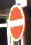No entry: (5, 5, 26, 39)
